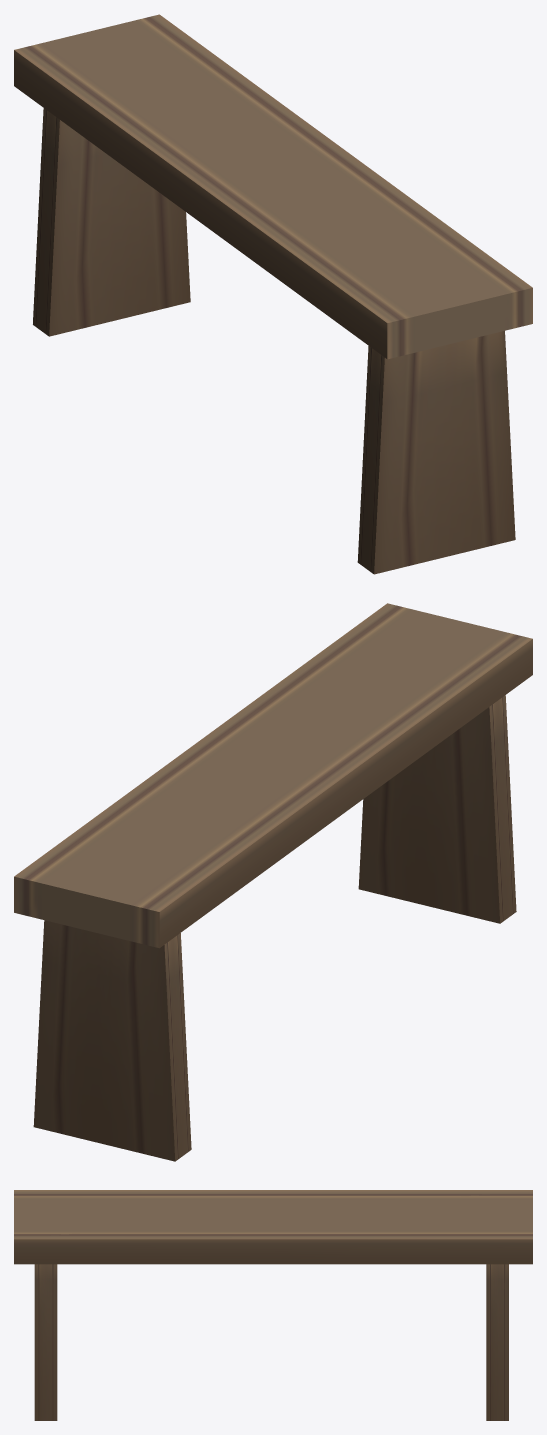
File: zhucheng01_yizi.FBX
3 renders of one model, top to bottom at view 1: azimuth 30°, elevation 25°; view 2: azimuth 150°, elevation 25°; view 3: azimuth 270°, elevation 25°, orthographic. The views are drawn at different scales.
Visible parts, largest first — view 1: Object77; view 2: Object77; view 3: Object77.
Boxes of the visible parts, x1=… form: Object77: x1=14, y1=14, x2=532, y2=574; Object77: x1=14, y1=603, x2=532, y2=1161; Object77: x1=14, y1=1190, x2=532, y2=1420.
Bounding box in the file's own units: 0.542 × 0.9342 × 2.41.
